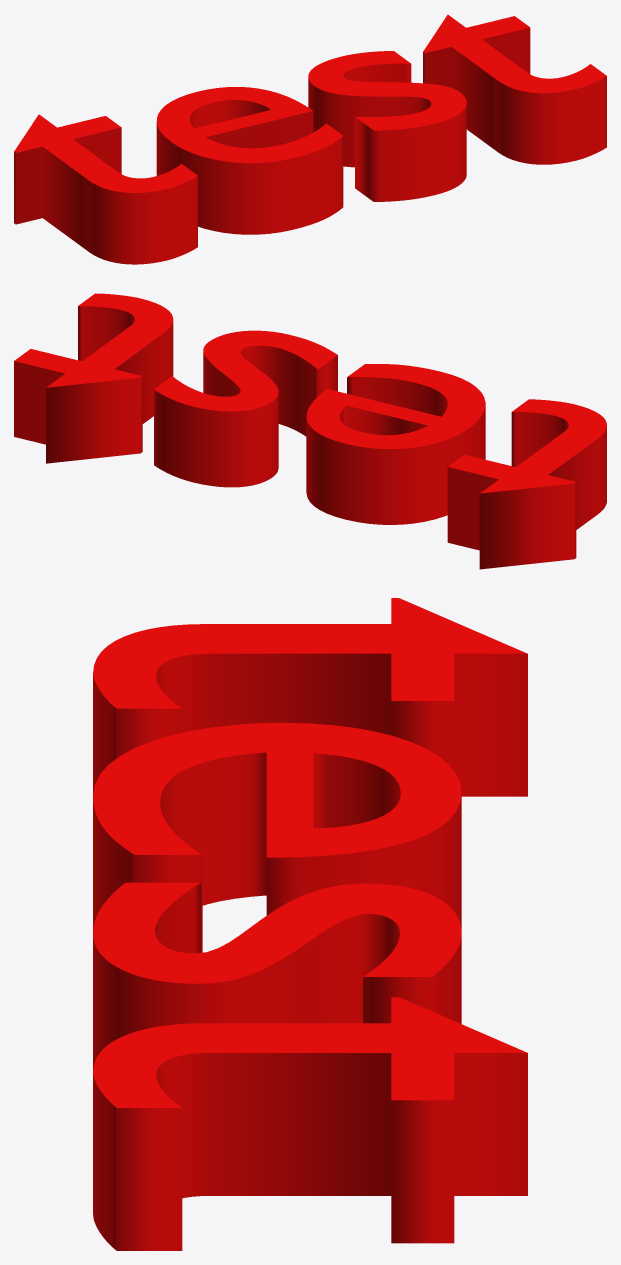
The picture shows the model from 3 angles, top to bottom: view 1: azimuth 30°, elevation 25°; view 2: azimuth 150°, elevation 25°; view 3: azimuth 270°, elevation 25°; orthographic projection. The views are drawn at different scales.
Visible parts, largest first — view 1: My3DTextObject; view 2: My3DTextObject; view 3: My3DTextObject.
Part boxes in pixels (box(x1,y1,x2,y2)): My3DTextObject: box(14, 14, 606, 264); My3DTextObject: box(14, 293, 606, 569); My3DTextObject: box(93, 598, 527, 1250).
Size of the model in its own units: 153 by 20 by 55.1.
